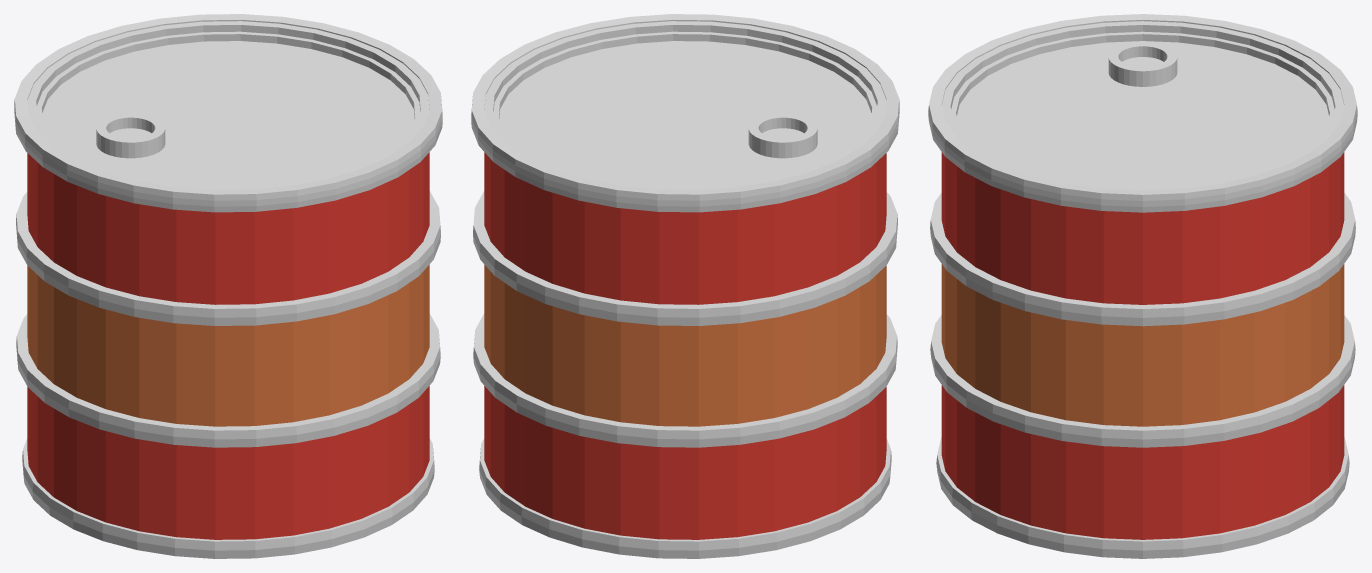
File: oil_barrel.glb
3 renders of one model, left to right at view 1: azimuth 30°, elevation 25°; view 2: azimuth 150°, elevation 25°; view 3: azimuth 270°, elevation 25°, orthographic.
Parts seen in each view (by area): view 1: Cylinder; view 2: Cylinder; view 3: Cylinder.
Part boxes in pixels (<box>): Cylinder: <box>14,14,442,558</box>; Cylinder: <box>471,14,899,558</box>; Cylinder: <box>928,14,1357,558</box>.
Bounding box in the file's own units: 2.13 × 2.01 × 2.13.
